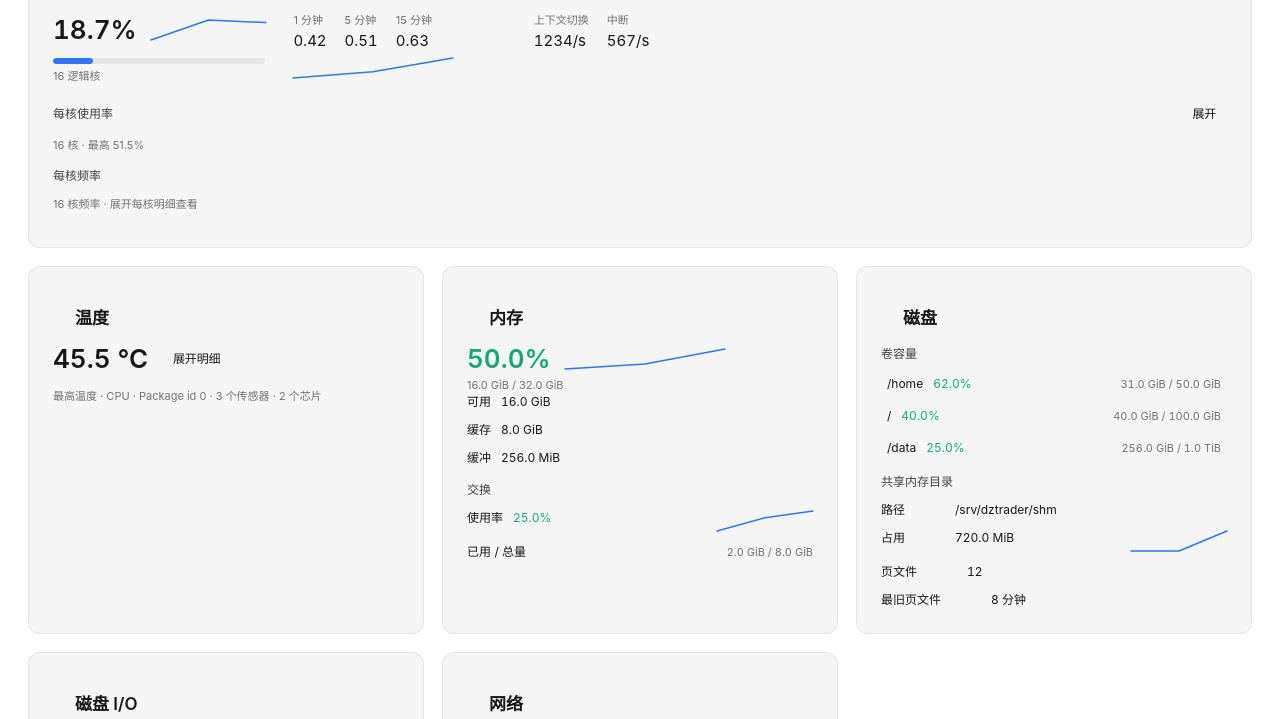
Test case: MonitorView 卡片折叠（#127：维度明细默认收起） › 每传感器明细默认收起：卡片显示最高温作为主数值，展开后按芯片分组显示全部
(page scrolled)
Expected: the text with test id "monitor-temperature-max" reads "45.5 °C", [53, 343, 148, 374]
Expected: the text with test id "monitor-temperature-summary" reads "最高温度 · CPU · Package id 0 · 3 个传感器 · 2 个芯片", [53, 389, 322, 403]
Click the button "展开明细". click: (197, 359)
box: [162, 347, 231, 371]
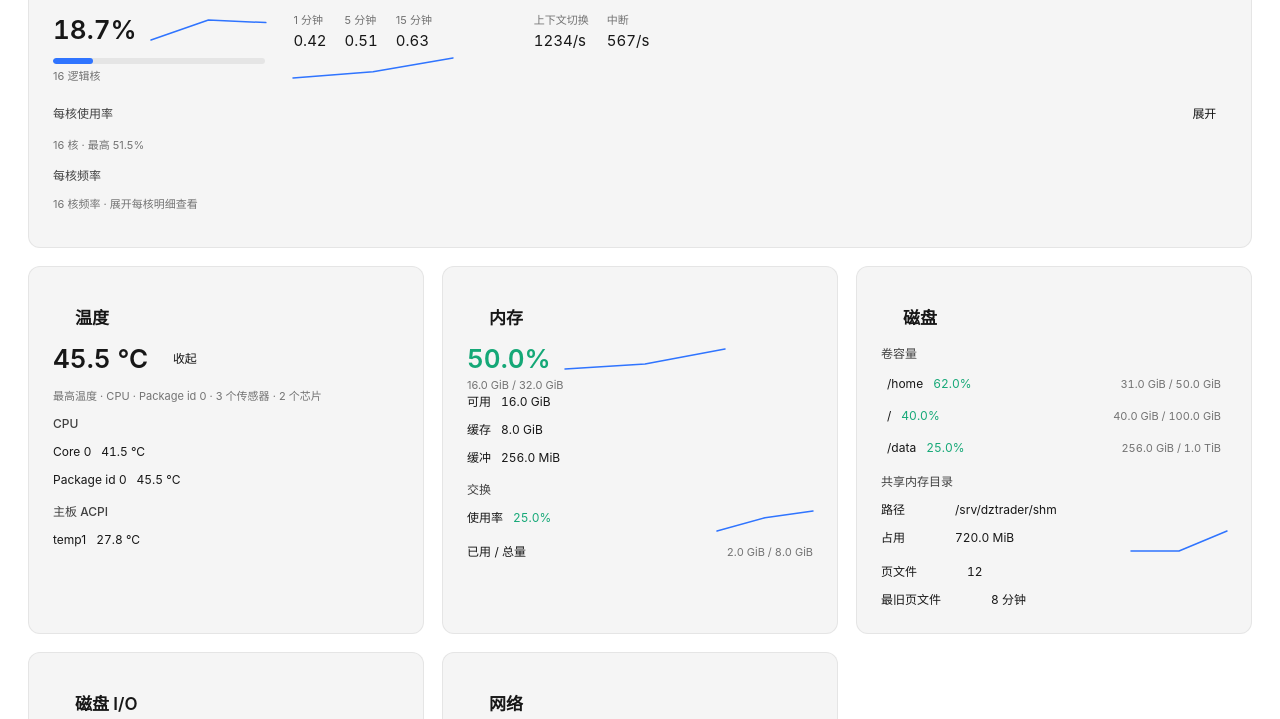
Expected: the number of list items with test id "monitor-temperature-sensor" is 3, [53, 444, 145, 459]; [53, 472, 180, 487]; [53, 532, 140, 547]
Expected: the number of elements with test id "monitor-temperature-group" is 2, [53, 416, 180, 487]; [53, 504, 140, 547]
